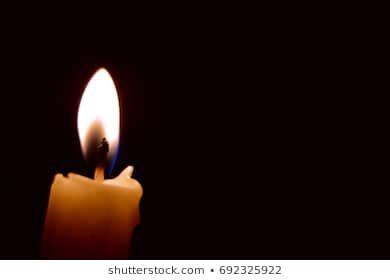fire: (75, 63, 123, 172)
